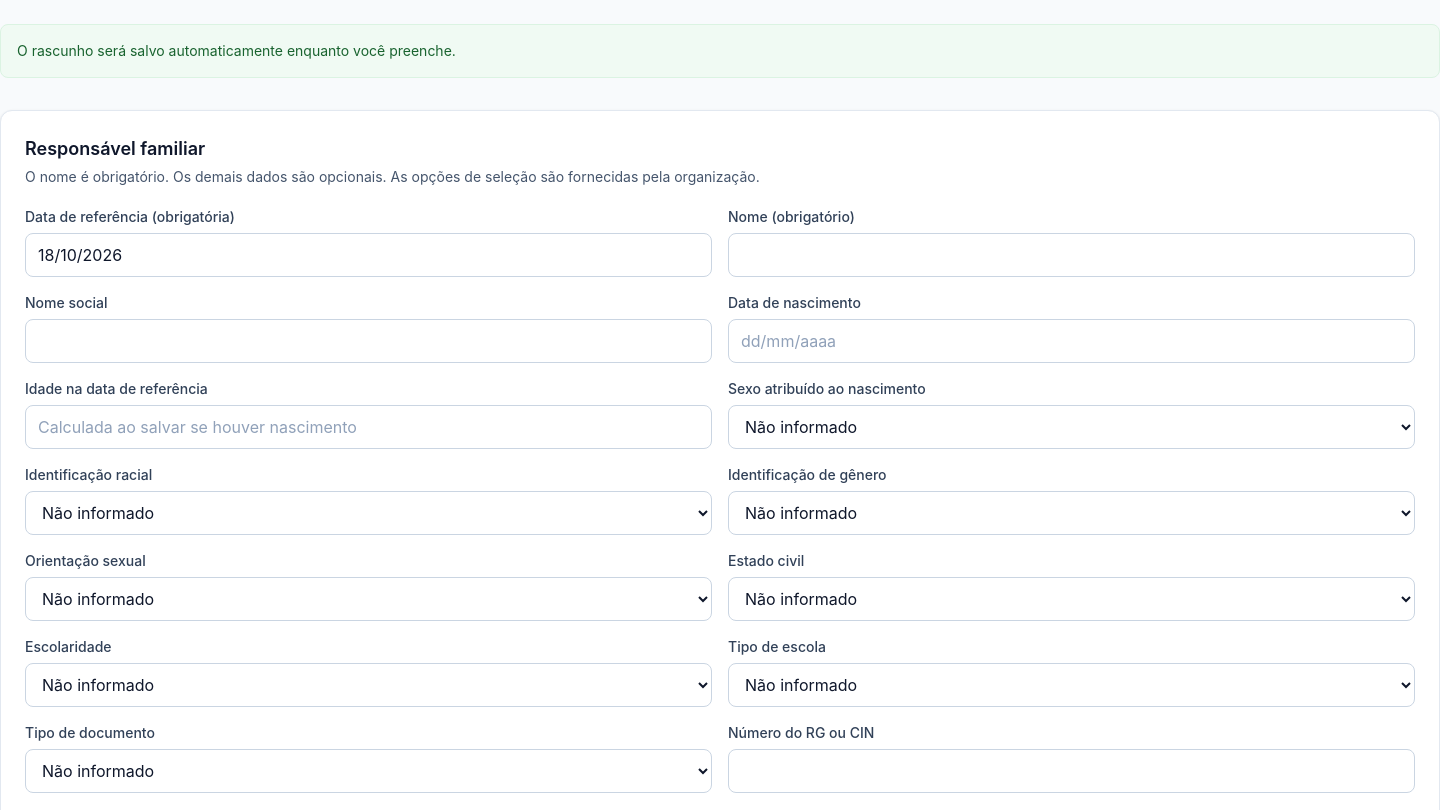
Test: RF15–RF18: population › bloqueia alterações e duplicação do envio, e limpa somente após o sucesso
The width and height of the screenshot is (1440, 810).
Type "Responsável Teste" into the field labelled "Nome (obrigatório)" at (1072, 255), box [728,233,1415,277]
(page scrolled)
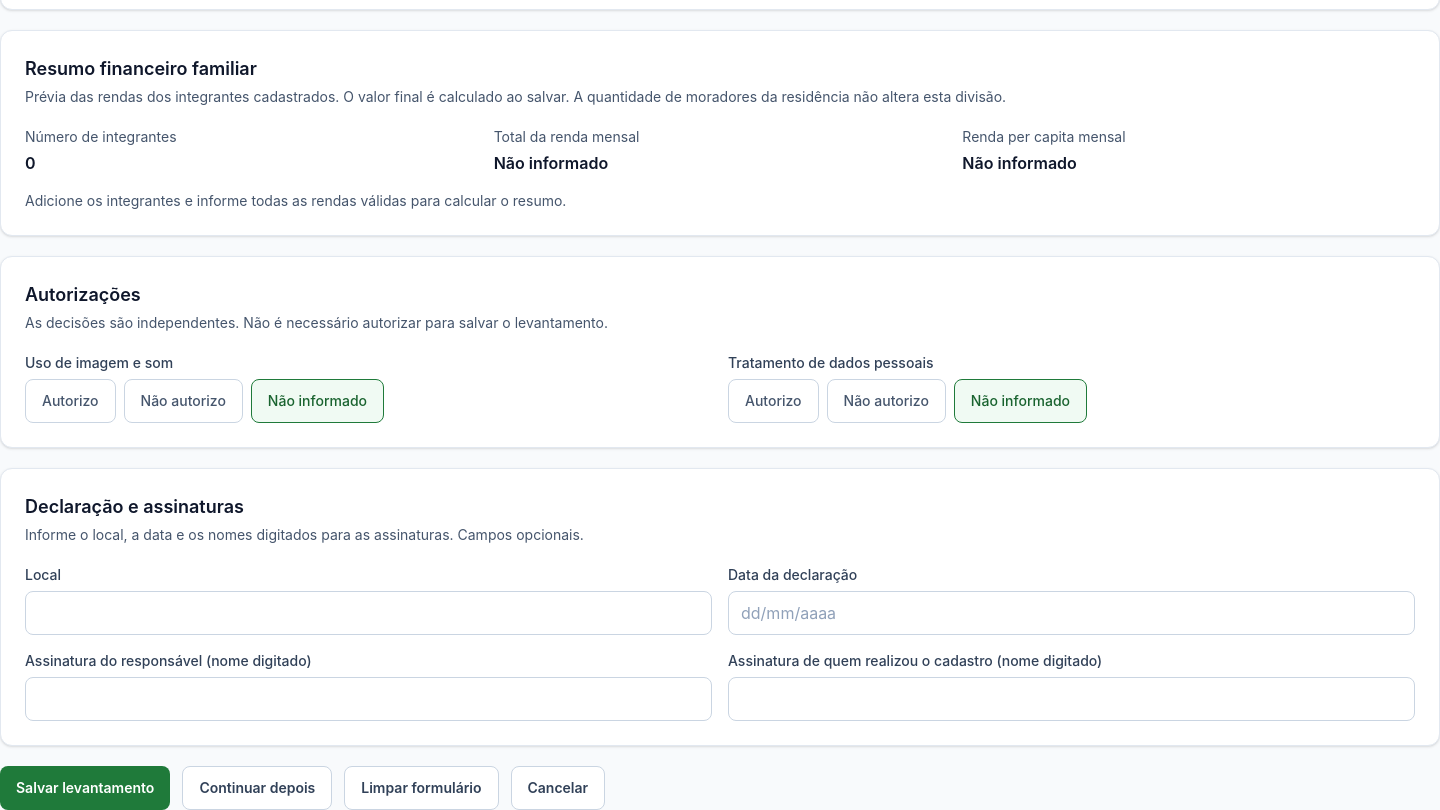
Double-click the button "Salvar levantamento" at (85, 788), box [0,766,170,809]
(page scrolled)
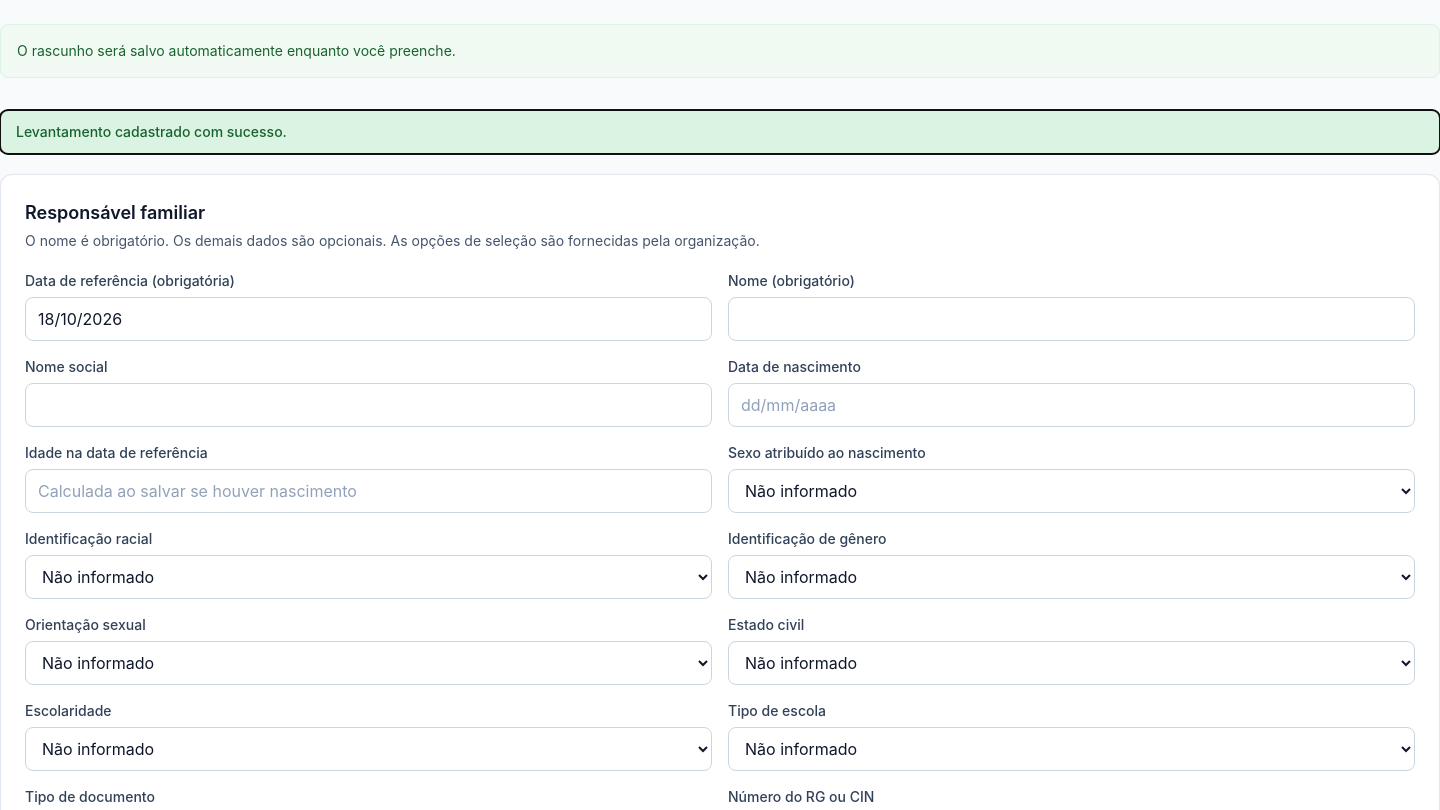
Check: the field labelled "Nome (obrigatório)" is empty, box [728,297,1415,341]
Check: the message "Levantamento cadastrado com sucesso." is shown, box [0,110,1439,154]
